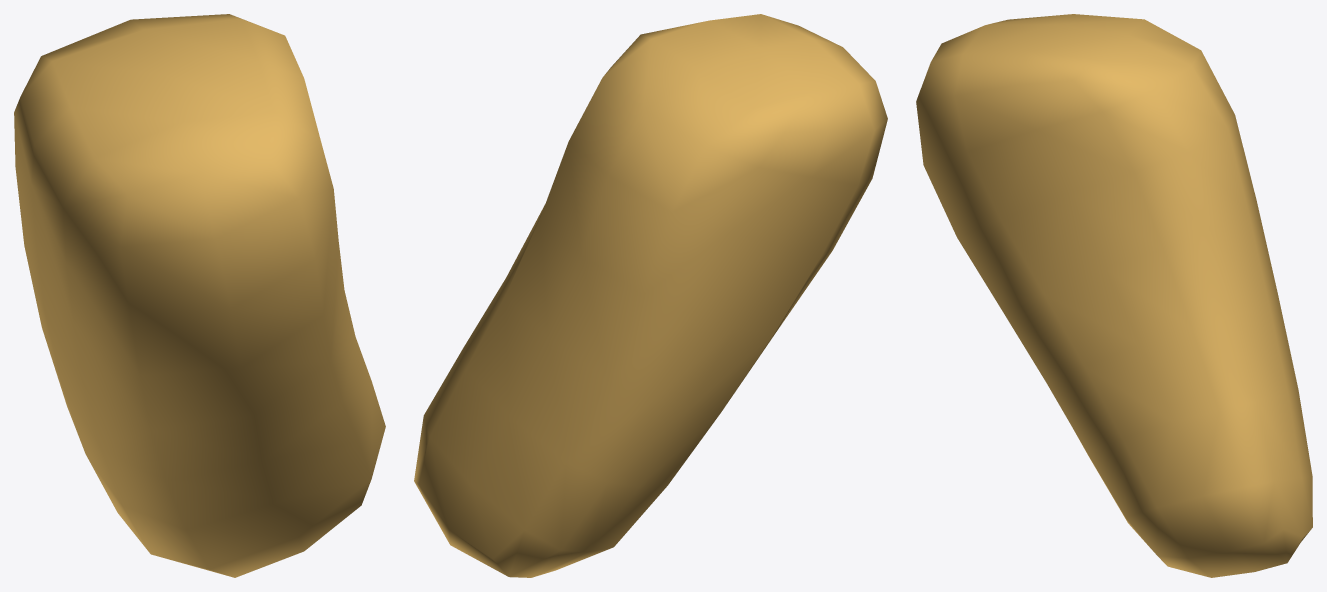
The picture shows the model from 3 angles, left to right: view 1: azimuth 30°, elevation 25°; view 2: azimuth 150°, elevation 25°; view 3: azimuth 270°, elevation 25°; orthographic projection. The views are drawn at different scales.
Parts seen in each view (by area): view 1: 右侧副腮腺; view 2: 右侧副腮腺; view 3: 右侧副腮腺.
Boxes of the visible parts, <box> form: 右侧副腮腺: <box>14,14,385,577</box>; 右侧副腮腺: <box>414,14,887,577</box>; 右侧副腮腺: <box>916,14,1312,577</box>.
Size of the model in its own units: 0.0123 by 0.0172 by 0.0127.
